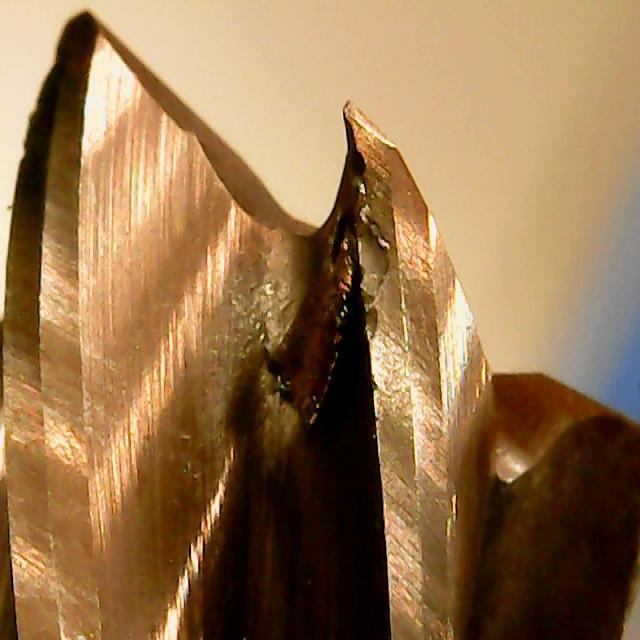Tool-wear-class-2: (317, 97, 467, 425)
